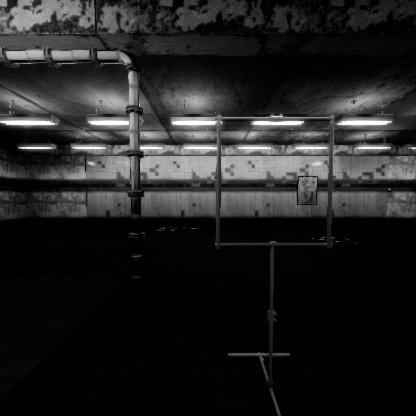gate: (216, 167, 345, 299)
